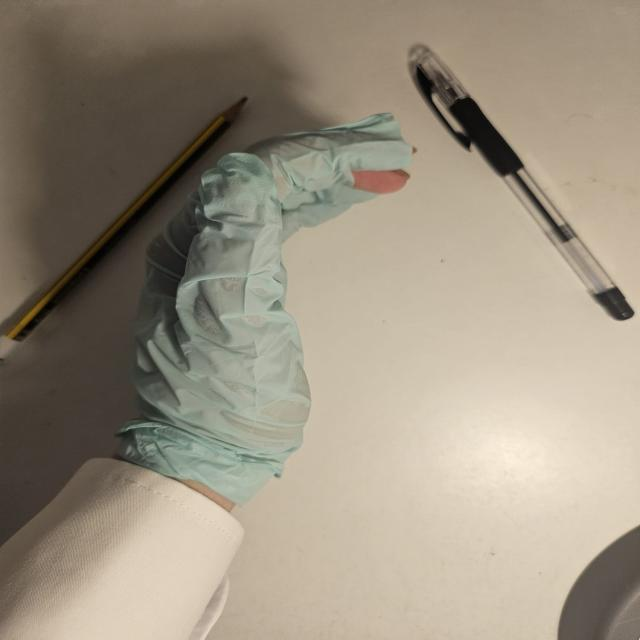gloves_damaged: (104, 107, 416, 507)
